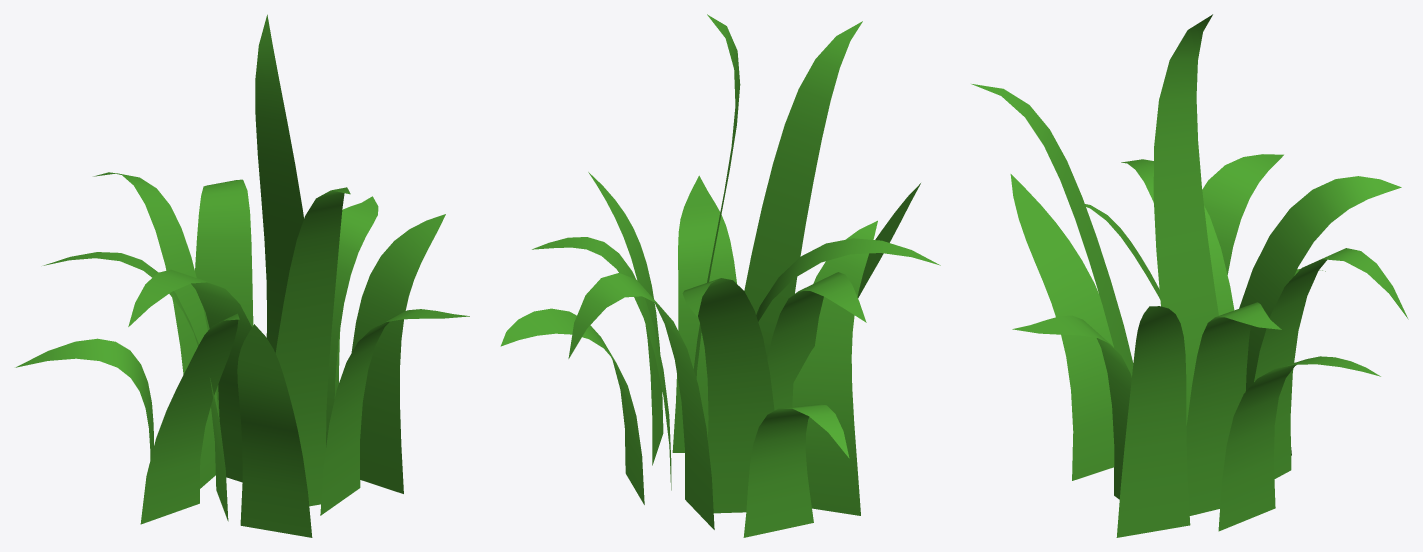
File: GrassBush2.fbx
The picture shows the model from 3 angles, left to right: view 1: azimuth 30°, elevation 25°; view 2: azimuth 150°, elevation 25°; view 3: azimuth 270°, elevation 25°; orthographic projection. The views are drawn at different scales.
Parts seen in each view (by area): view 1: GrassBush2; view 2: GrassBush2; view 3: GrassBush2.
Boxes of the visible parts, <box> form: GrassBush2: <box>15,14,469,537</box>; GrassBush2: <box>500,14,940,537</box>; GrassBush2: <box>971,14,1408,537</box>.
Bounding box in the file's own units: 18.17 × 23.82 × 19.56.
